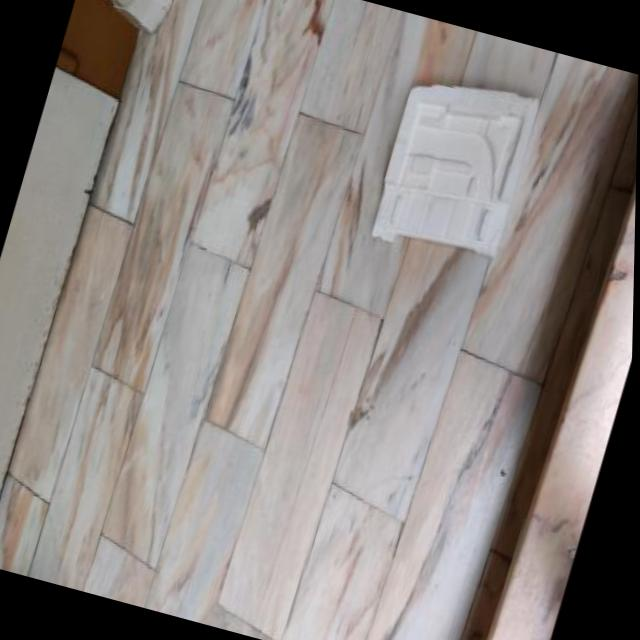other: (364, 57, 549, 276)
